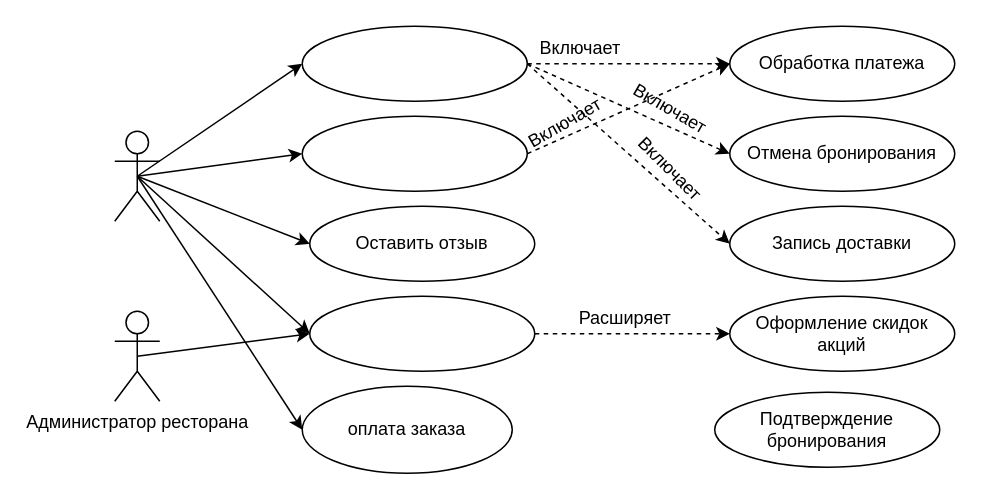
Some shapes in this 981 by 500 pixel diagram are drawn without their labels. Each missing label, with the centre of its shape:
бронирования стола: the point at 414,63
выбор блюд: the point at 414,153
клиент: the point at 136,175
получение чека: the point at 421,333
